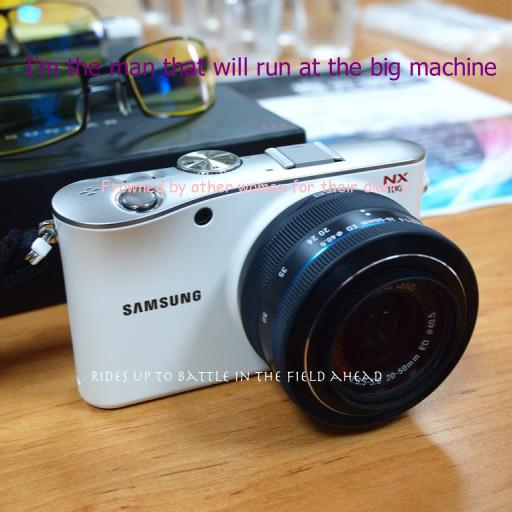Comic Sans MS: (100, 179, 408, 197)
Herculanum: (89, 371, 383, 383)
Tahoma: (25, 57, 497, 81)
